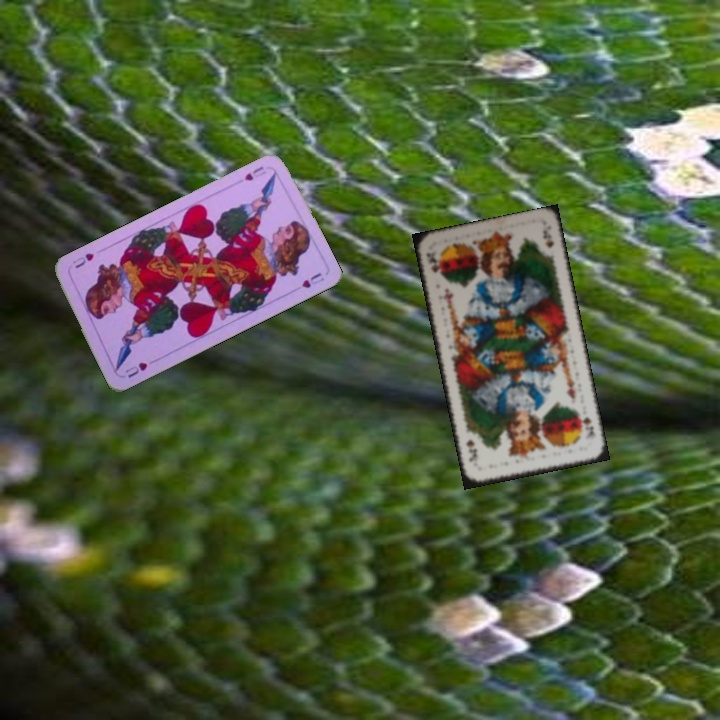HU: (121, 358, 150, 381), (240, 162, 269, 184)
SK: (422, 247, 444, 279), (575, 407, 596, 440)
